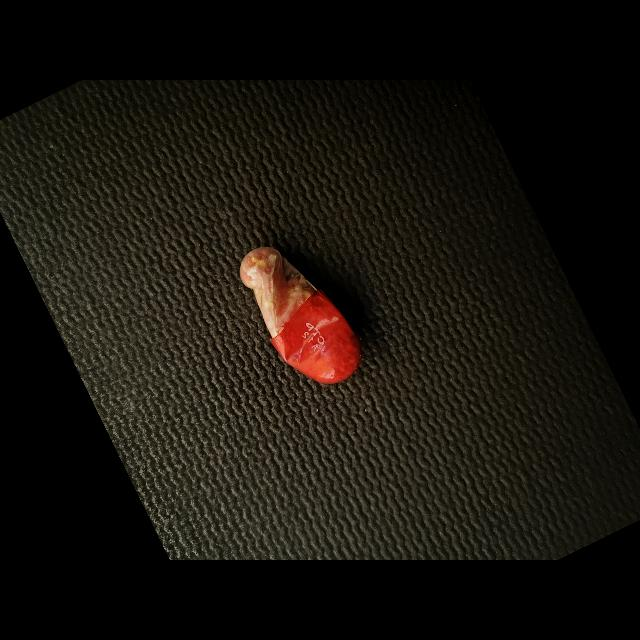Defective Capsule: (240, 247, 361, 383)
